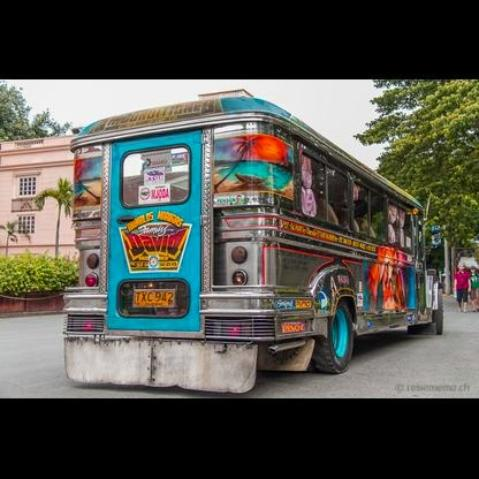jeepney: (43, 95, 445, 404)
